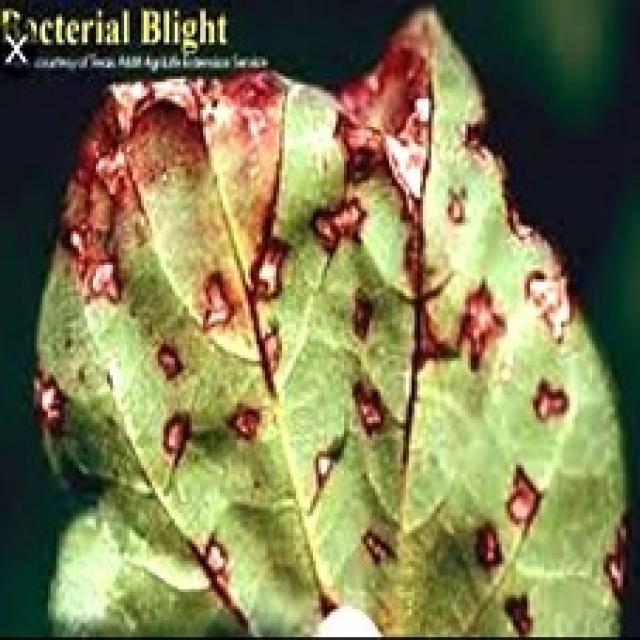Downy_Mildew: (41, 102, 582, 492)
